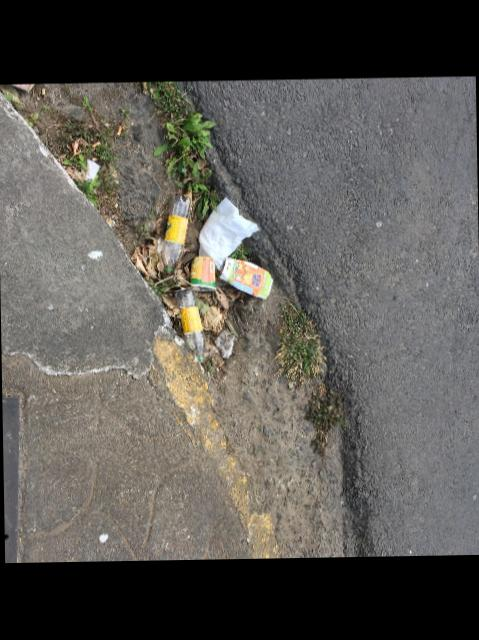cardboard paper: (196, 198, 257, 270)
plastic: (218, 257, 271, 299), (159, 195, 188, 269), (173, 289, 202, 358)
